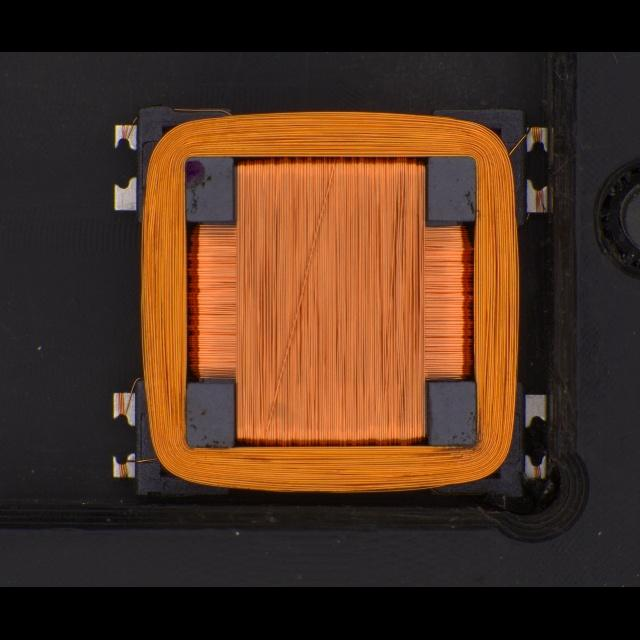Winding_Z: (131, 106, 524, 495)
